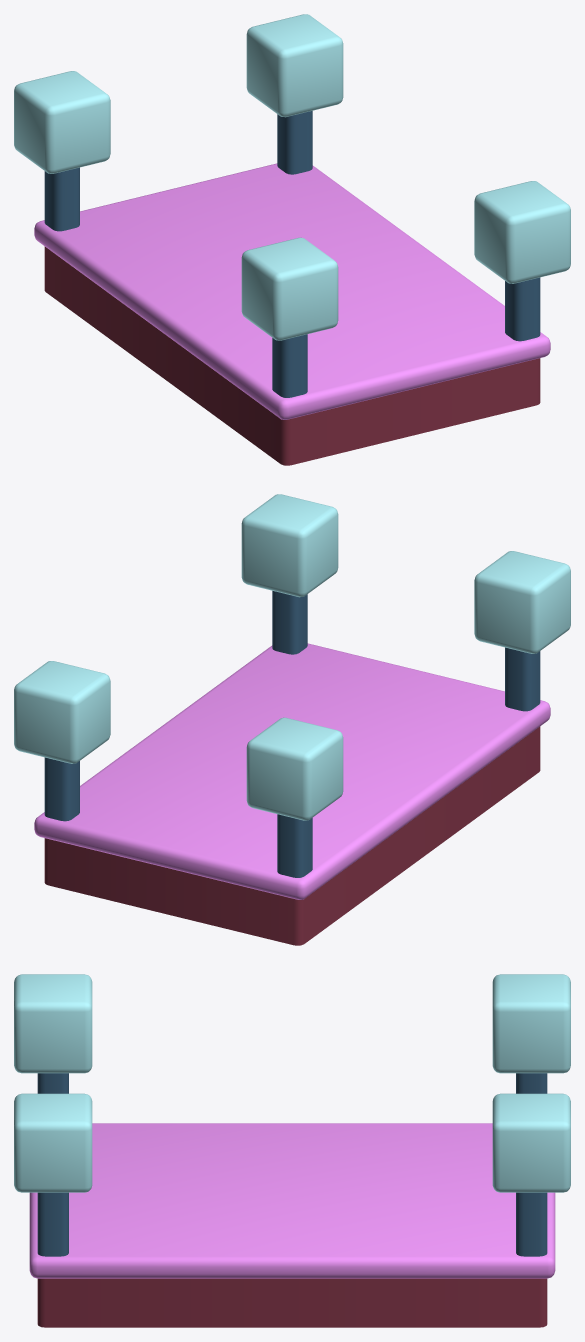
File: GroundLevelCandy.fbx
The picture shows the model from 3 angles, top to bottom: view 1: azimuth 30°, elevation 25°; view 2: azimuth 150°, elevation 25°; view 3: azimuth 270°, elevation 25°; orthographic projection. The views are drawn at different scales.
Visible parts, largest first — view 1: GroundLevelCandy; view 2: GroundLevelCandy; view 3: GroundLevelCandy.
Part boxes in pixels (x1,y1,x2,y2): GroundLevelCandy: (14, 14, 570, 465); GroundLevelCandy: (14, 494, 570, 945); GroundLevelCandy: (14, 974, 570, 1327).
Bounding box in the file's own units: 920 × 600 × 1420.
